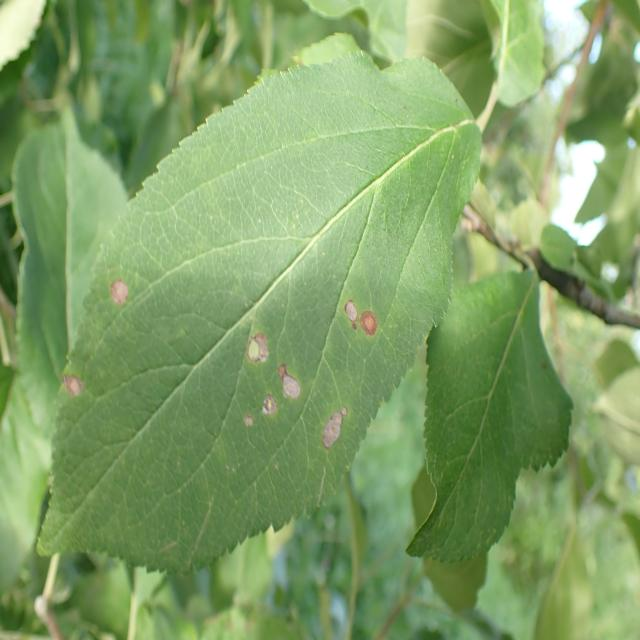Black Rot: (339, 287, 382, 353), (47, 356, 90, 406), (278, 358, 312, 419), (317, 398, 353, 455), (106, 262, 136, 320), (239, 325, 271, 372), (255, 391, 282, 428), (229, 411, 260, 436)
